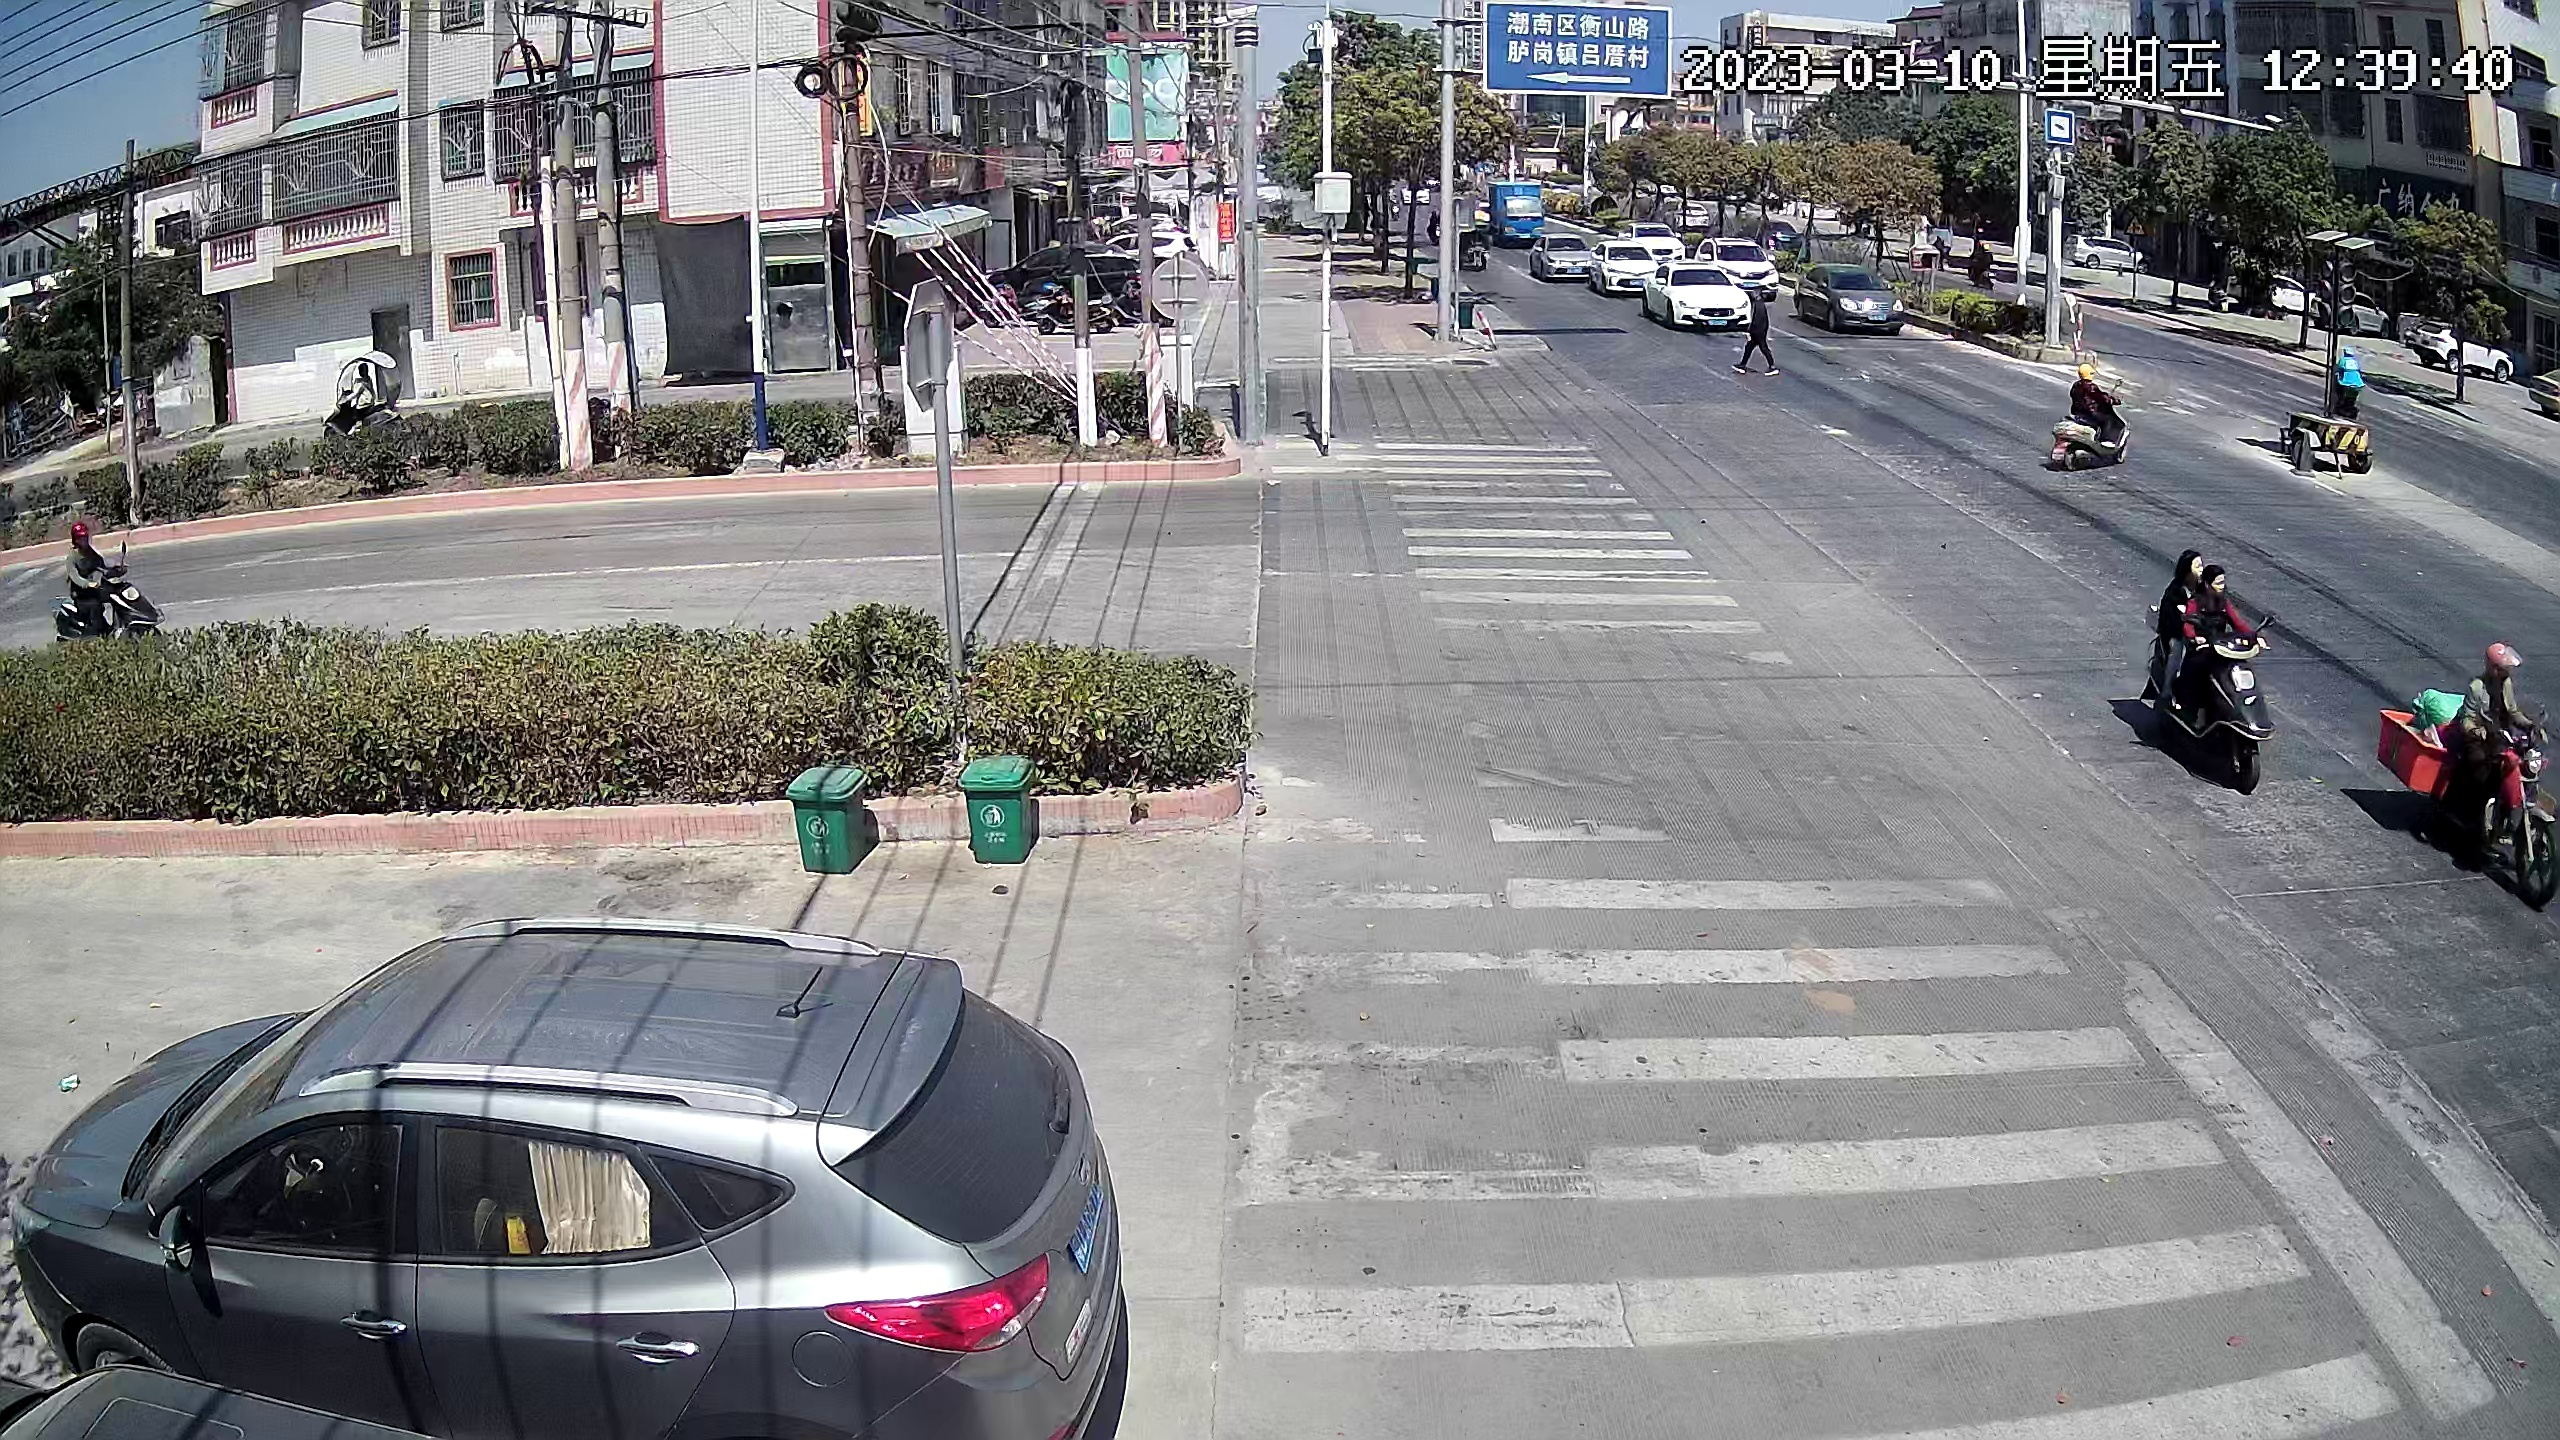head: (2168, 542, 2207, 585)
motorcycle: (2378, 637, 2547, 909), (2140, 534, 2267, 805), (43, 503, 160, 649), (320, 339, 412, 439), (2054, 363, 2134, 469), (1034, 289, 1109, 332)
person: (2470, 635, 2529, 772), (57, 514, 105, 609), (1738, 280, 1778, 375), (2198, 564, 2238, 637), (350, 363, 378, 422)
sedan: (1798, 257, 1902, 339), (2423, 315, 2509, 393), (1005, 245, 1134, 297), (1660, 263, 1733, 333), (2070, 232, 2140, 279), (1542, 233, 1592, 289), (1712, 238, 1769, 283), (2328, 284, 2375, 338), (1595, 248, 1648, 293), (2264, 267, 2300, 318), (1623, 223, 1678, 248)
suv: (28, 900, 1144, 1430)
truck: (1492, 173, 1547, 252)
